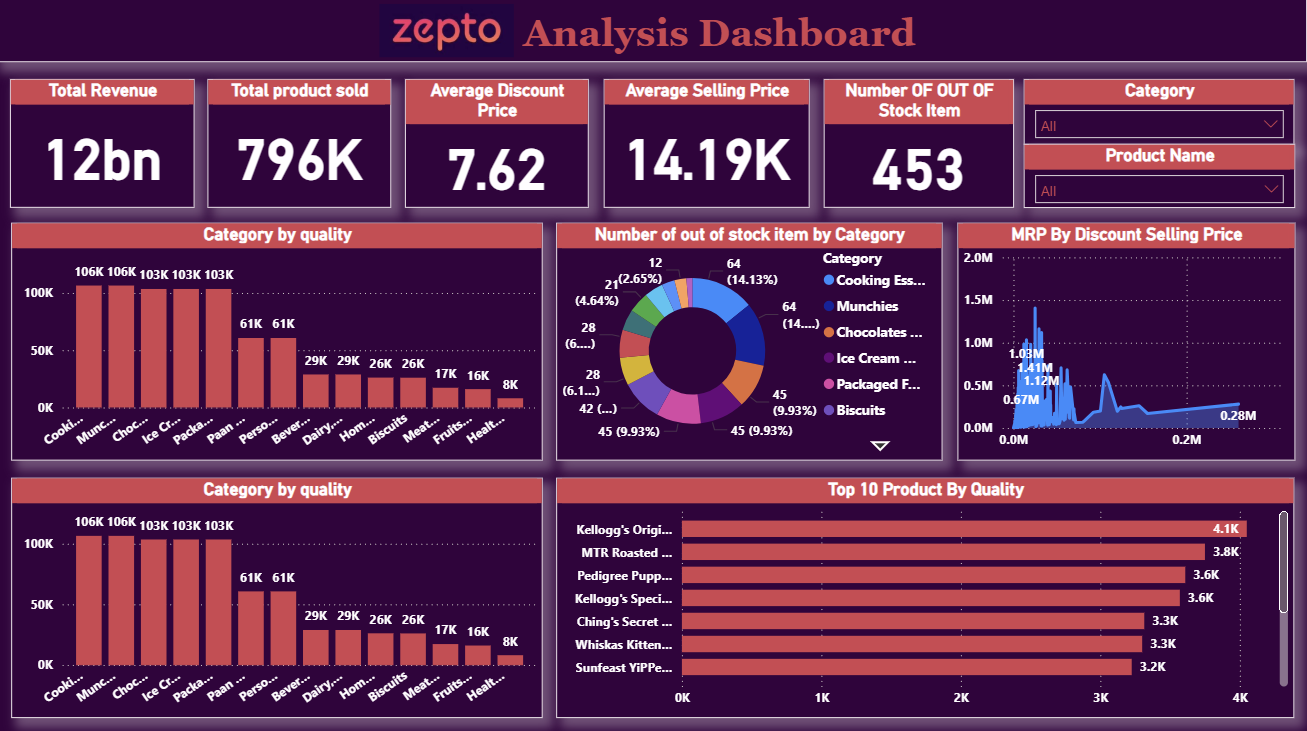

The dashboard page shown, as its layout file describes it:
{"tool":"powerbi","page":{"name":"Page 1","canvas":[1280,720],"ordinal":0},"visuals":[{"type":"shape","box":[0,0,1280.3,52],"z":0},{"type":"textbox","box":[0,0,1280.3,61.8],"z":1000},{"type":"card","title":"Total Revenue","fields":{"Values":["Sum(Sheet1.Total Revenue)"]},"box":[15.1,78.5,180.3,125.3],"z":3000},{"type":"card","title":"Total product sold","fields":{"Values":["Sum(Sheet1.quantity)"]},"box":[207.9,78.5,179,125.3],"z":4000},{"type":"card","title":"Average Discount Price ","fields":{"Values":["Avg(Sheet1.discountPercent)"]},"box":[400.6,78.5,179,125.3],"z":5000},{"type":"card","title":"Average Selling Price ","fields":{"Values":["Avg(Sheet1.discountedSellingPrice)"]},"box":[593.3,78.5,201,125.3],"z":6000},{"type":"card","title":"Number OF OUT OF Stock Item","fields":{"Values":["Sheet1.Number of out of stock item"]},"box":[808.1,78.5,185.8,125.3],"z":7000},{"type":"slicer","title":"Category","fields":{"Values":["Sheet1.Category"]},"box":[1003.8,78.4,264.2,63.9],"z":8000},{"type":"slicer","title":"Product Name","fields":{"Values":["Sheet1.name"]},"box":[1003.2,141.9,264.8,62.8],"z":9000},{"type":"columnChart","title":"Category by quality","fields":{"Category":["Sheet1.Category"],"Y":["Sum(Sheet1.quantity)"]},"box":[15.7,218.4,518.8,231.6],"z":10000},{"type":"donutChart","fields":{"Category":["Sheet1.Category"],"Y":["Sheet1.Number of out of stock item"]},"box":[547.7,218.4,376.4,231.6],"z":11000},{"type":"stackedAreaChart","title":"MRP By Discount Selling Price","fields":{"Y":["Sum(Sheet1.discountedSellingPrice)"],"Category":["Sheet1.mrp"]},"box":[938.6,218.4,329.4,231.6],"z":12000},{"type":"columnChart","title":"Category by quality","fields":{"Category":["Sheet1.Category"],"Y":["Sum(Sheet1.quantity)"]},"box":[15.7,466.9,518.8,234],"z":13000},{"type":"clusteredBarChart","title":"Top 10 Product By Quality","fields":{"Category":["Sheet1.name"],"Y":["Sum(Sheet1.quantity)"]},"box":[547.7,466.9,720.2,234],"z":14000},{"type":"image","box":[362.2,0,157.3,62.2],"z":15000}]}

Visuals, with their boxes in screenshot pixels (x1, y1, x2, y2), scaled from the page's 1280x720 canvas onto the 1307x731 screenshot:
shape: crop(0, 0, 1306, 53)
textbox: crop(0, 0, 1306, 63)
"Total Revenue" card: crop(15, 80, 200, 207)
"Total product sold" card: crop(212, 80, 395, 207)
"Average Discount Price " card: crop(409, 80, 592, 207)
"Average Selling Price " card: crop(606, 80, 811, 207)
"Number OF OUT OF Stock Item" card: crop(825, 80, 1015, 207)
"Category" slicer: crop(1025, 80, 1295, 144)
"Product Name" slicer: crop(1024, 144, 1295, 208)
"Category by quality" columnChart: crop(16, 222, 546, 457)
donutChart - Sheet1.Category x Sheet1.Number of out of stock item: crop(559, 222, 944, 457)
"MRP By Discount Selling Price" stackedAreaChart: crop(958, 222, 1295, 457)
"Category by quality" columnChart: crop(16, 474, 546, 712)
"Top 10 Product By Quality" clusteredBarChart: crop(559, 474, 1295, 712)
image: crop(370, 0, 530, 63)
